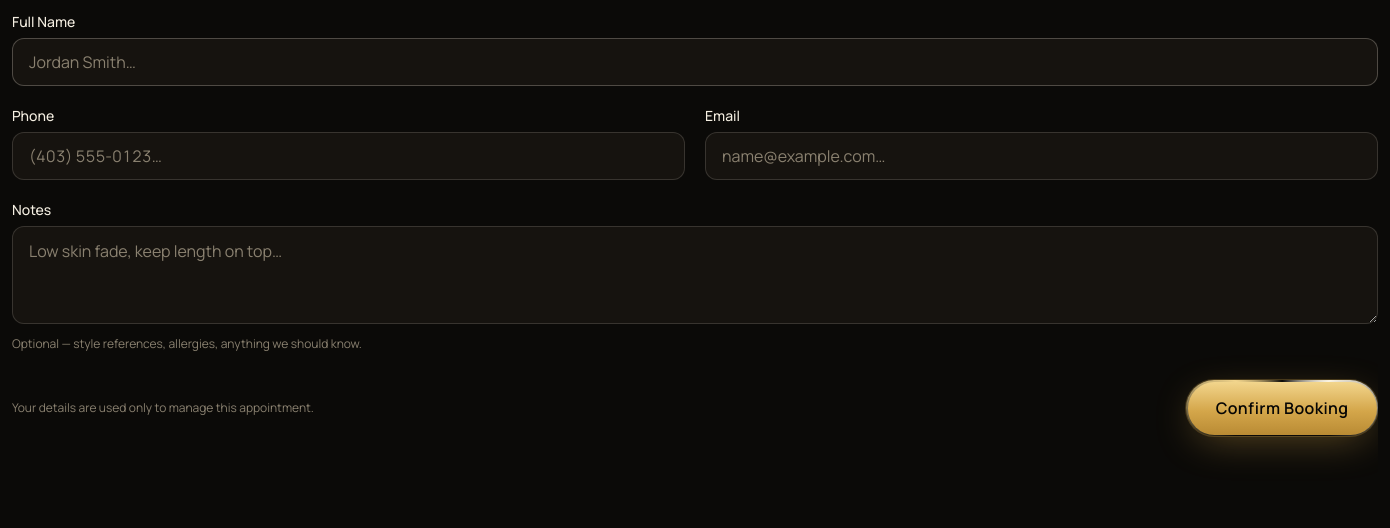
it: <StepDetails /> › shows inline errors and focuses the first invalid field on empty submit
Step 1. Click the button "Confirm Booking" → (1282, 408), box [1186, 380, 1378, 436]
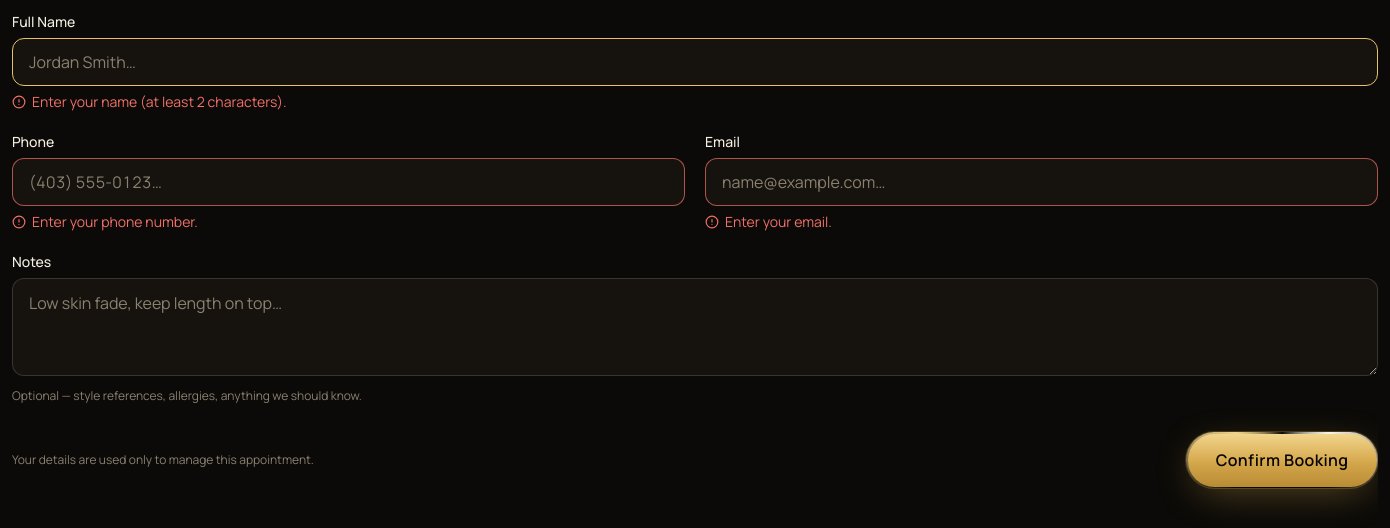
Now the text "Enter your name (at least 2 characters)." is shown, box [12, 92, 286, 111]
Now the text "Enter your phone number." is shown, box [12, 212, 198, 231]
Now the text "Enter your email." is shown, box [705, 212, 832, 231]
